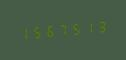five: (30, 22, 42, 41), (69, 19, 81, 38)
one: (17, 23, 29, 42), (82, 18, 94, 37)
seven: (56, 20, 68, 39)
six: (43, 21, 55, 40)
three: (95, 17, 107, 36)
